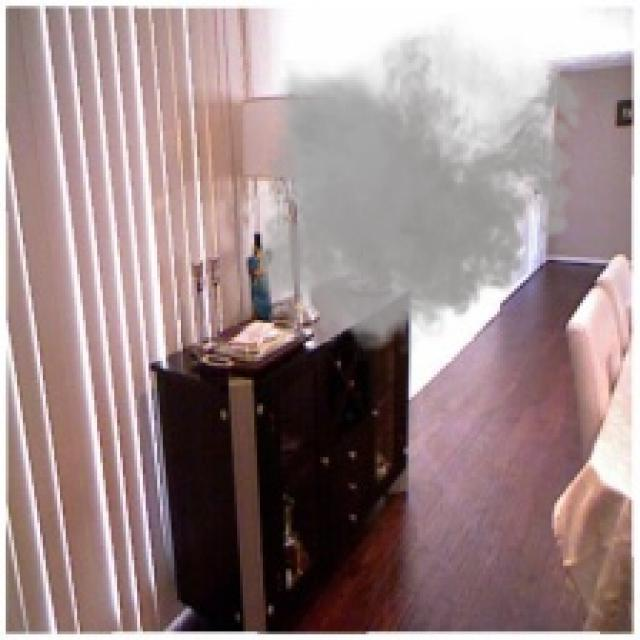Smoke: (246, 14, 592, 363)
